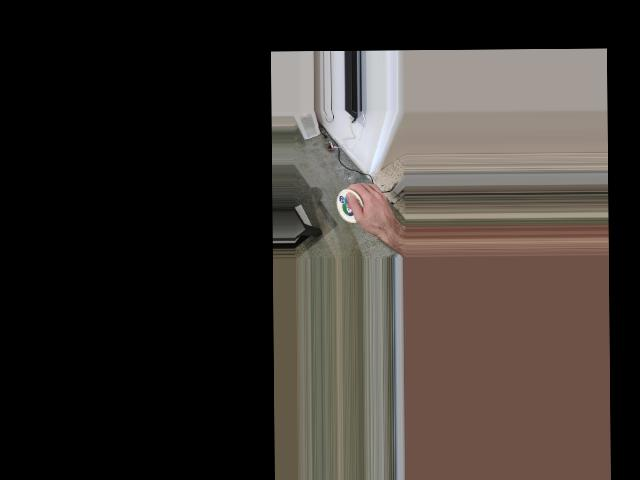cotage: (336, 188, 366, 223)
